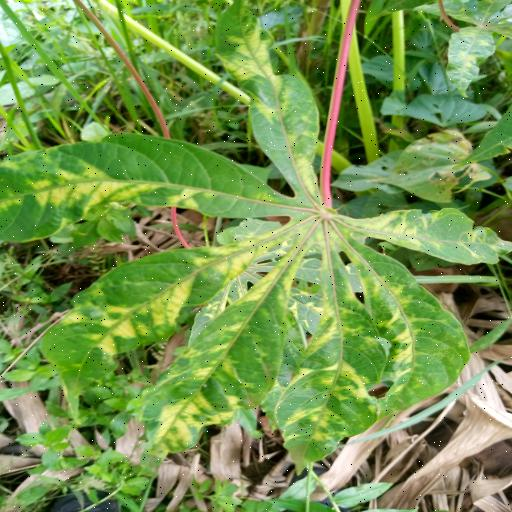Cassava_Mosaic: (5, 5, 512, 479)
